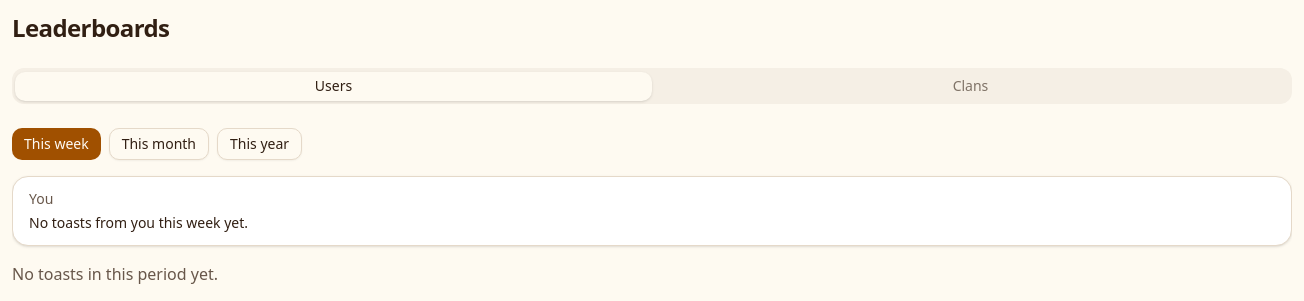
Scenario: LeaderboardsPage › has no "Your clan" row outside a clan
Click the tab "Clans": (970, 86) x1=652 y1=72 x2=1289 y2=100
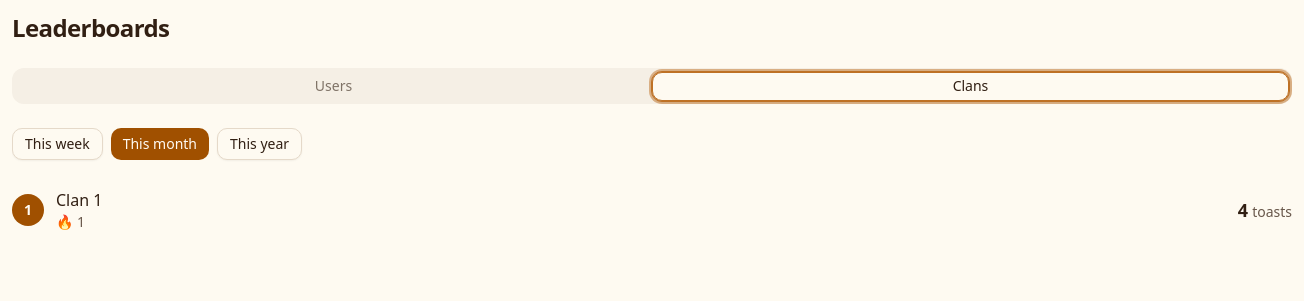
Check: the list named "Clans by toasts" is shown, box x1=12 y1=176 x2=1292 y2=244
